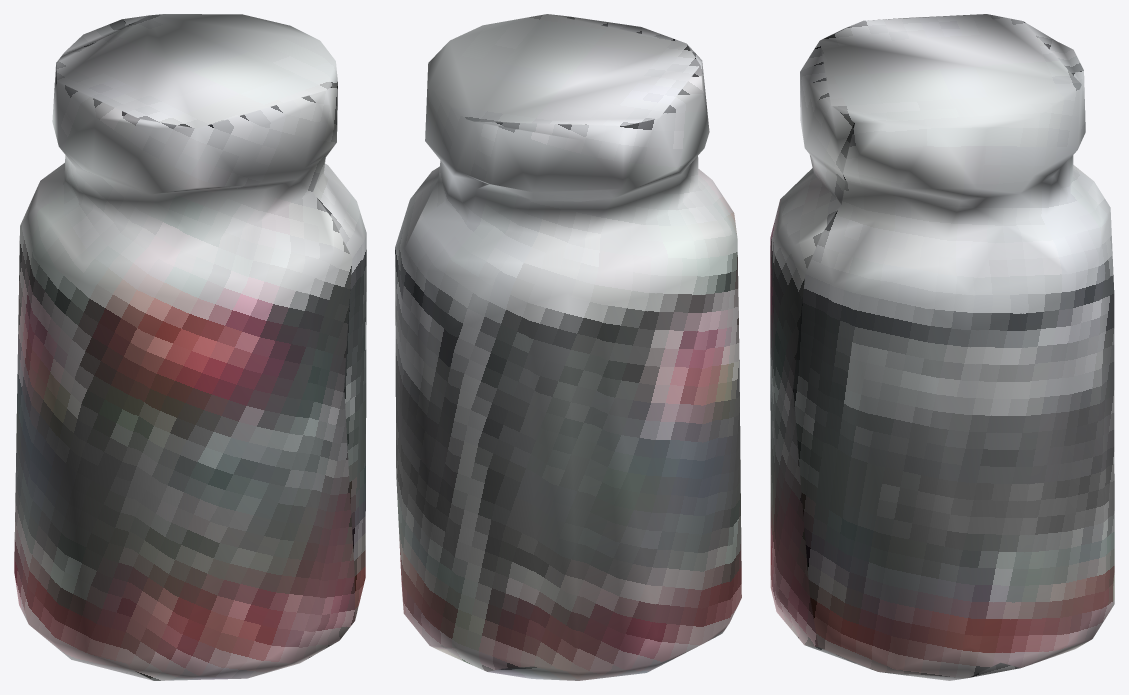
Rendered from QAbsorb_CoQ10-low.glb.
The picture shows the model from 3 angles, left to right: view 1: azimuth 30°, elevation 25°; view 2: azimuth 150°, elevation 25°; view 3: azimuth 270°, elevation 25°; orthographic projection.
Visible parts, largest first — view 1: QAbsorb_CoQ10; view 2: QAbsorb_CoQ10; view 3: QAbsorb_CoQ10.
Part boxes in pixels (x1,y1,x2,y2): QAbsorb_CoQ10: (14,14,366,680); QAbsorb_CoQ10: (395,14,741,680); QAbsorb_CoQ10: (770,14,1114,680).
Bounding box in the file's own units: 0.0565 × 0.0991 × 0.056.
Materials: 1 (1 with a texture image).
